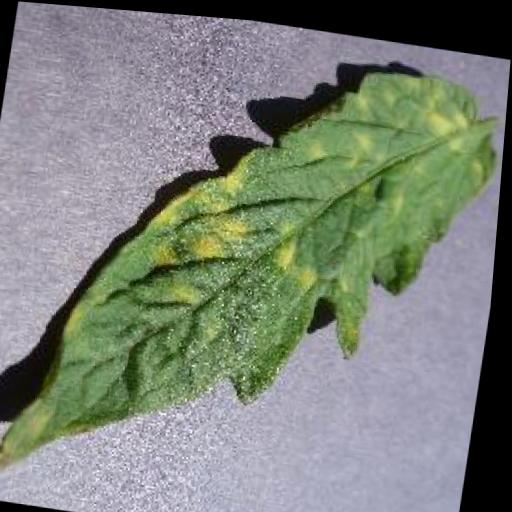Leaf Mold: (0, 16, 510, 512)
